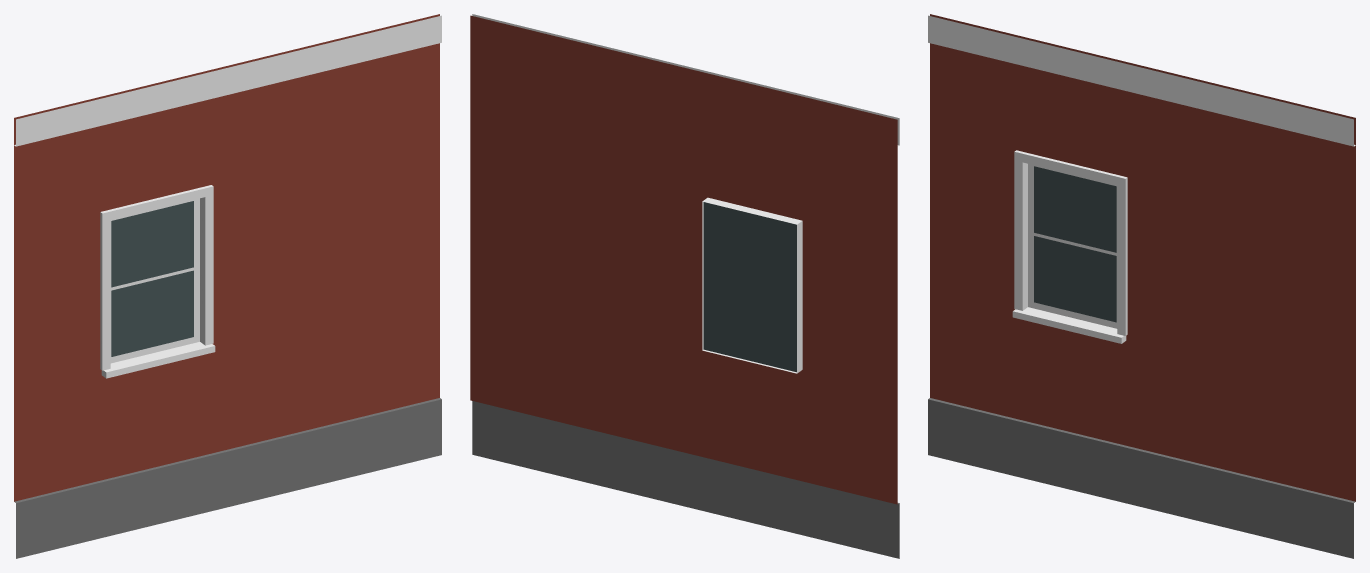
The picture shows the model from 3 angles, left to right: view 1: azimuth 30°, elevation 25°; view 2: azimuth 150°, elevation 25°; view 3: azimuth 330°, elevation 25°; orthographic projection.
Parts seen in each view (by area): view 1: a2000/200/base-w4; view 2: a2000/200/base-w4; view 3: a2000/200/base-w4.
Part boxes in pixels (box(x1,y1,x2,y2)): a2000/200/base-w4: box(14, 14, 441, 558); a2000/200/base-w4: box(470, 14, 899, 558); a2000/200/base-w4: box(928, 14, 1355, 558).
Bounding box in the file's own units: 3.6 × 3.55 × 0.15.
